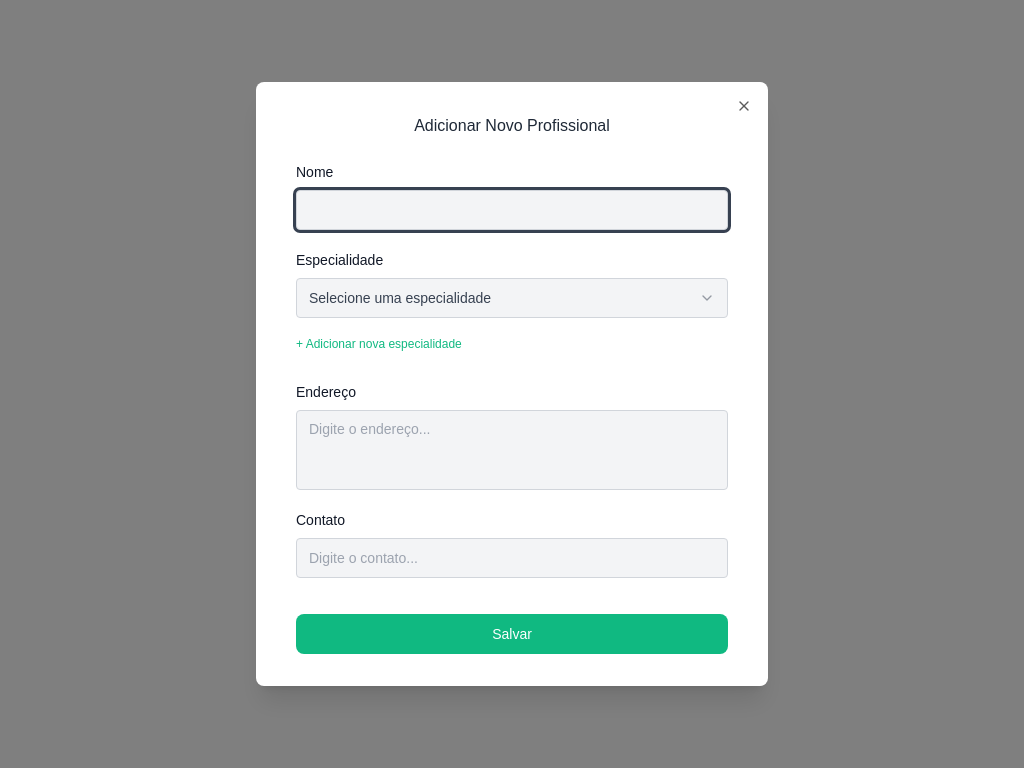
Test: AddProfessionalModal › displays loaded specialties in select
Note: Abrir o select para que as opções fiquem visíveis no DOM
Step 1. Click the dropdown → (400, 298), box [296,278,728,318]
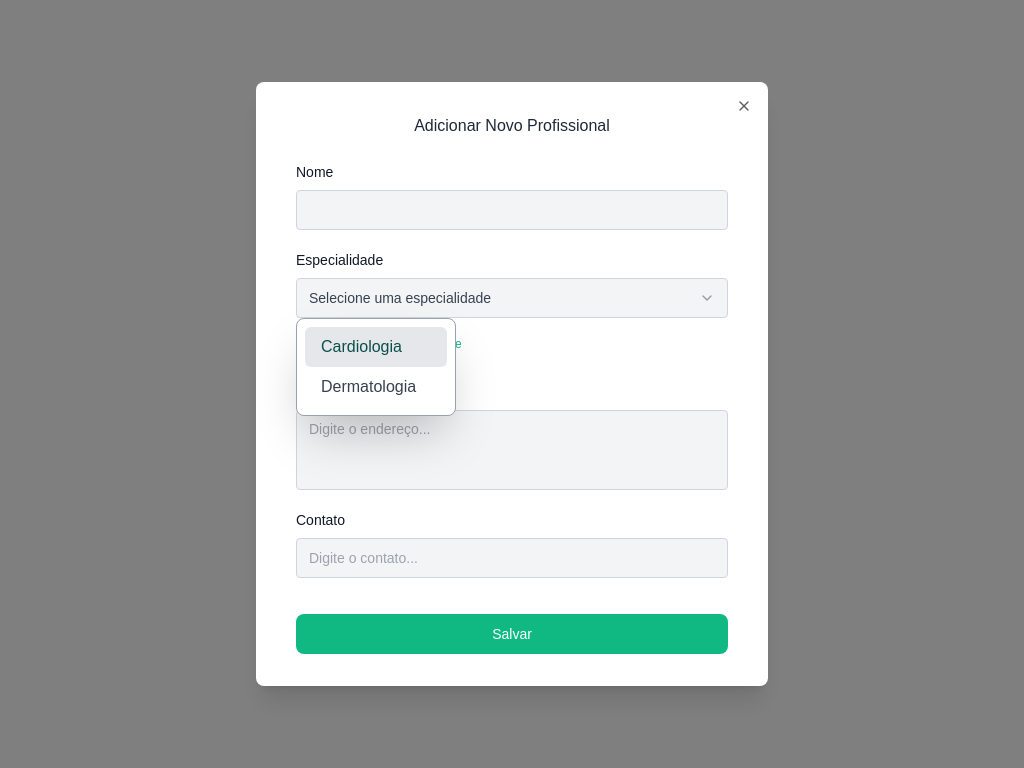
Check: the text "Cardiologia" is shown, box [321,335,402,359]
Check: the text "Dermatologia" is shown, box [321,375,416,399]
